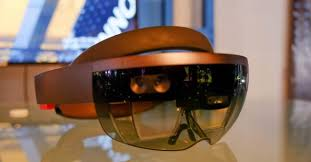hololens: (36, 26, 254, 152)
